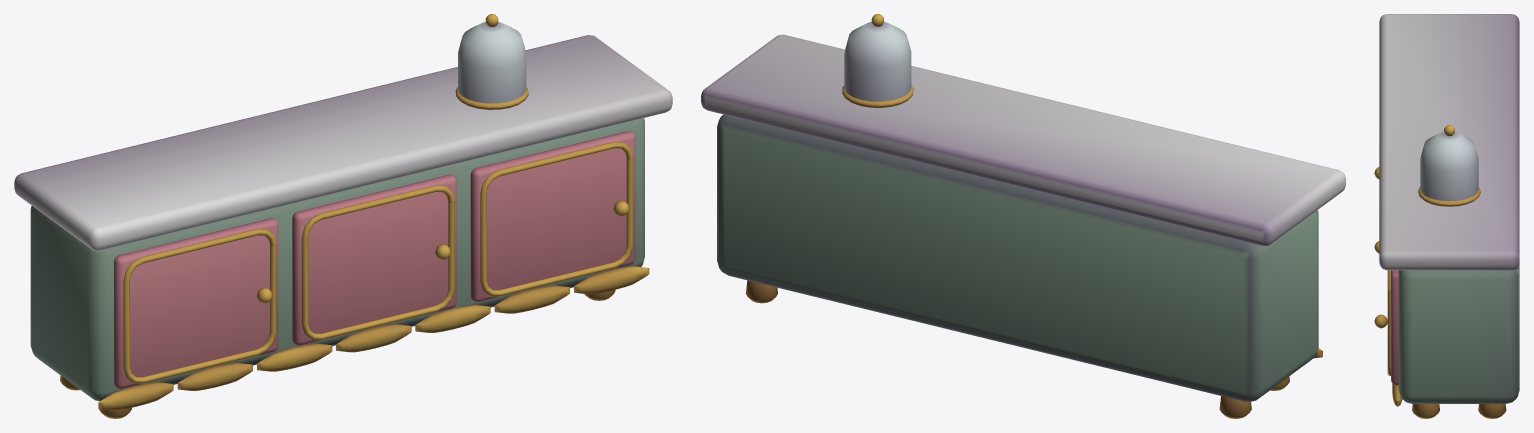
The model's file is cabinet_patisserie.glb.
3 renders of one model, left to right at view 1: azimuth 30°, elevation 25°; view 2: azimuth 150°, elevation 25°; view 3: azimuth 270°, elevation 25°, orthographic. The views are drawn at different scales.
Parts seen in each view (by area): view 1: cabinet_patisserie; view 2: cabinet_patisserie; view 3: cabinet_patisserie.
Part boxes in pixels (<box>): cabinet_patisserie: <box>14,14,672,418</box>; cabinet_patisserie: <box>701,14,1345,418</box>; cabinet_patisserie: <box>1374,14,1519,418</box>.
Bounding box in the file's own units: 2.94 × 1.42 × 0.7452.
